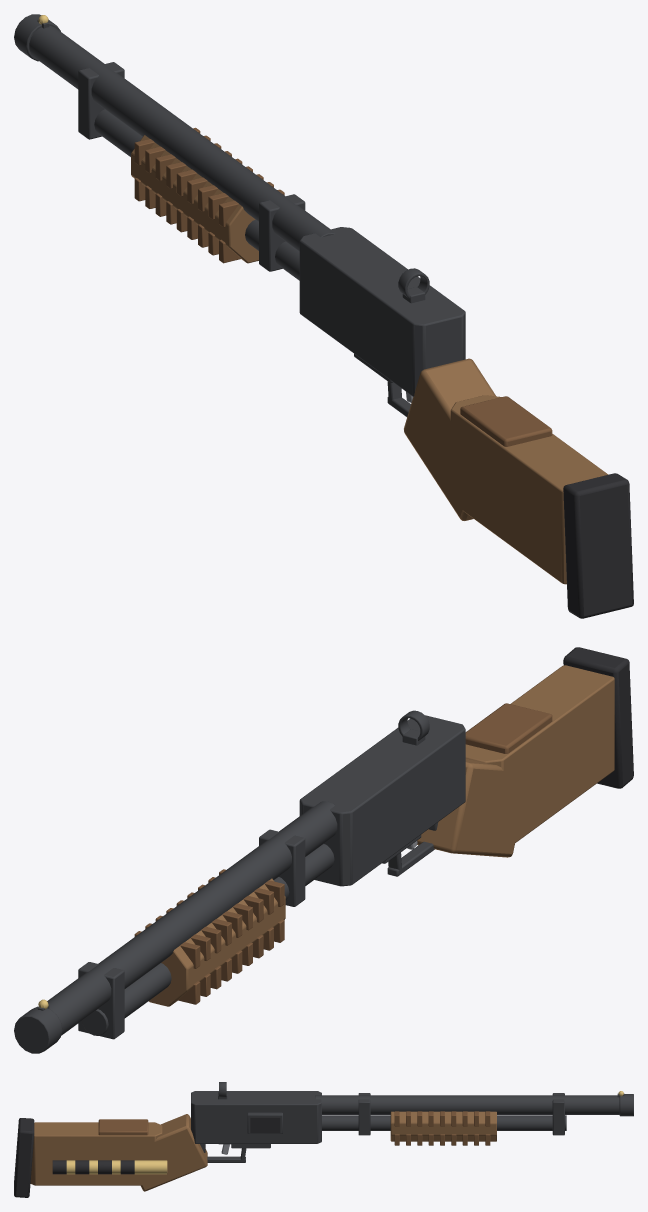
File: escopeta_bomba.glb
3 views of the same model, one above another, from view 1: azimuth 30°, elevation 25°; view 2: azimuth 150°, elevation 25°; view 3: azimuth 270°, elevation 25° (orthographic). The views are drawn at different scales.
Parts seen in each view (by area): view 1: escopeta_bomba; view 2: escopeta_bomba; view 3: escopeta_bomba.
Boxes of the visible parts, x1,y1,x2,y2 form: escopeta_bomba: (14, 14, 633, 618); escopeta_bomba: (14, 647, 633, 1053); escopeta_bomba: (14, 1082, 633, 1197).
Size of the model in its own units: 0.0642 by 0.1694 by 0.8744.
